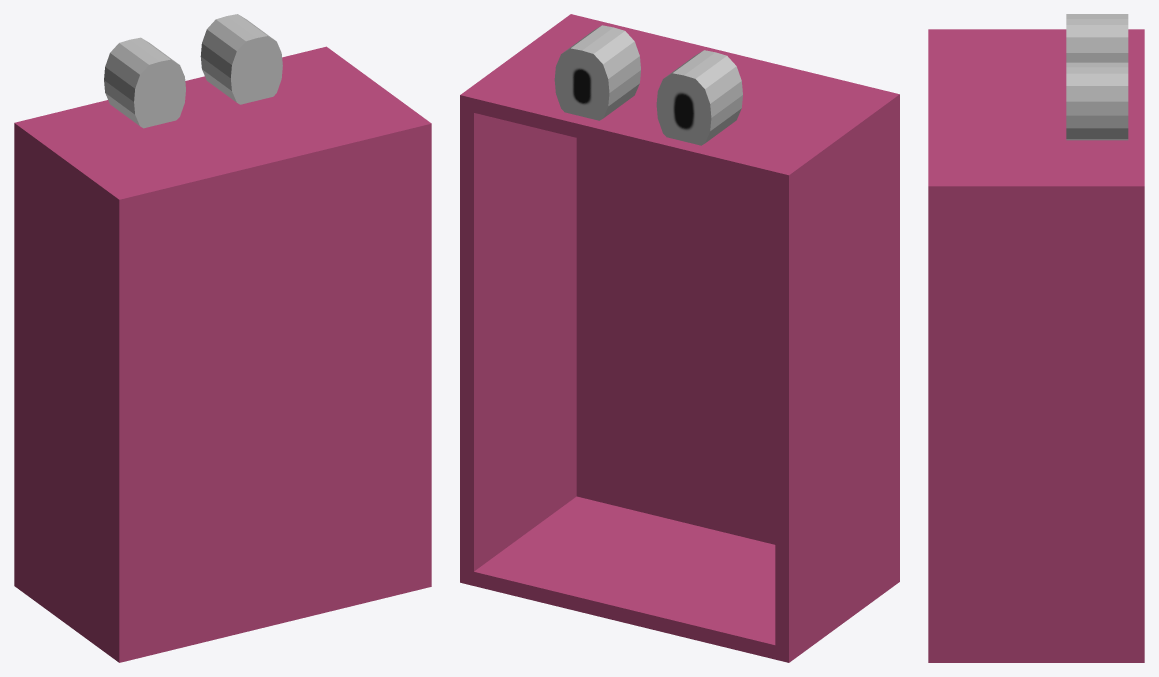
The model's file is boss.obj.
3 views of the same model, side by side, from view 1: azimuth 30°, elevation 25°; view 2: azimuth 150°, elevation 25°; view 3: azimuth 270°, elevation 25° (orthographic). The views are drawn at different scales.
Parts seen in each view (by area): view 1: 立方体; view 2: 立方体; view 3: 立方体.
Part boxes in pixels (x1,y1,x2,y2): 立方体: (14,14,431,662); 立方体: (460,14,899,662); 立方体: (928,14,1144,662).
Bounding box in the file's own units: 2.4 × 3.86 × 1.4.
Materials: 1 (1 with a texture image).
